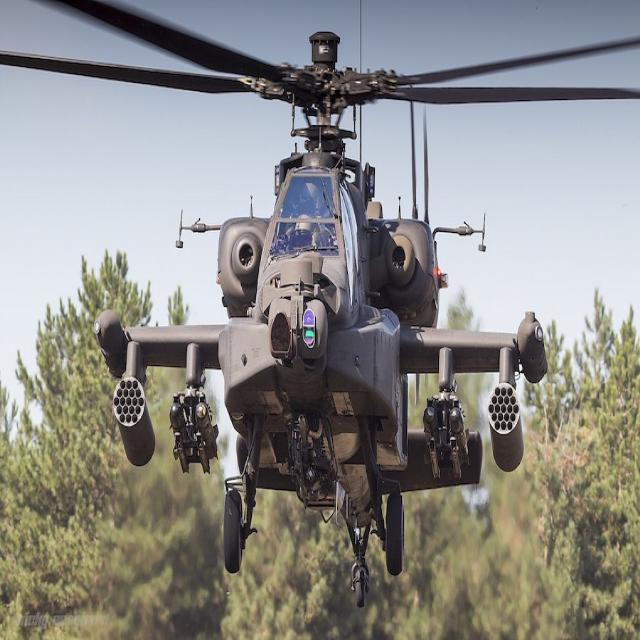Apache: (0, 7, 640, 580)
